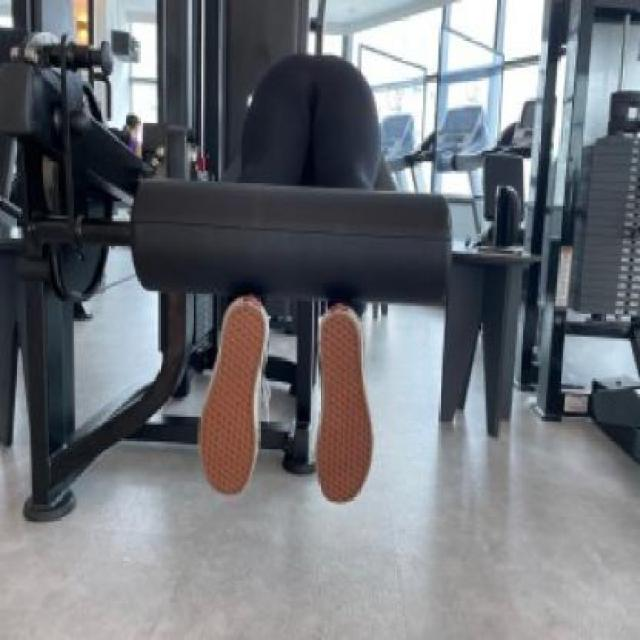reg curl machine: (0, 34, 454, 526)
